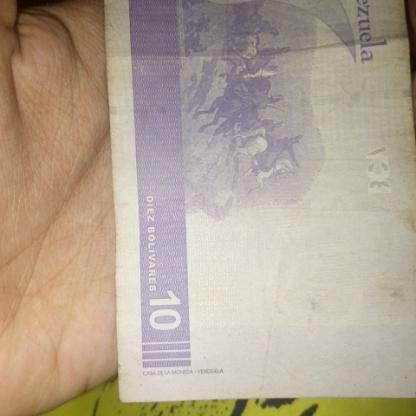ten-back-vef: (109, 0, 416, 406)
